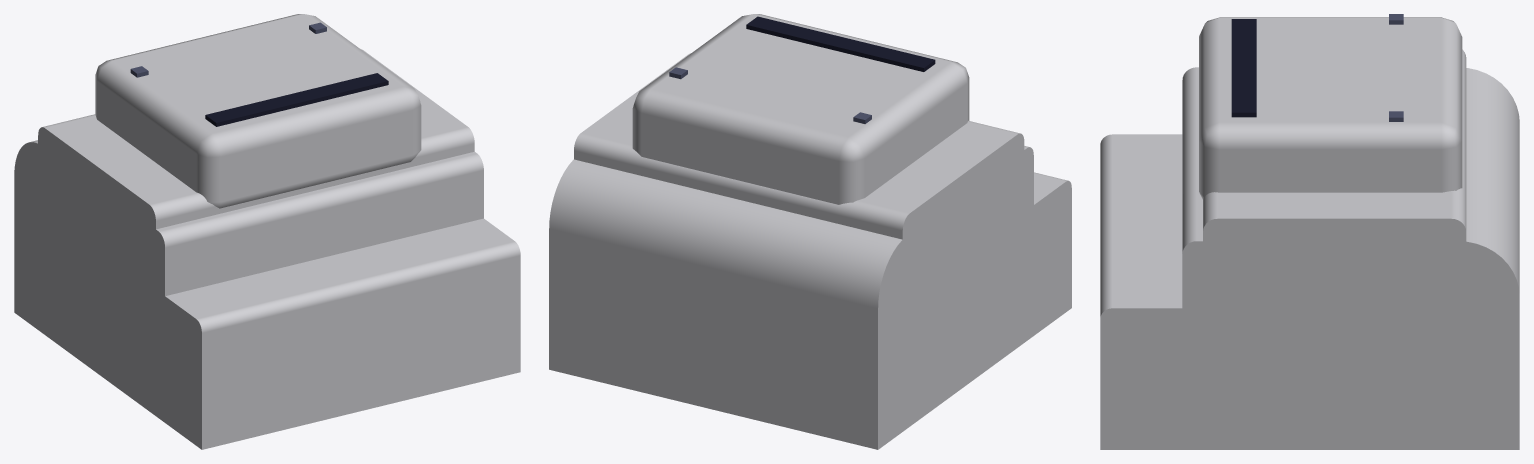
File: roof.shoulder.straight.bump.s1.glb
3 renders of one model, left to right at view 1: azimuth 30°, elevation 25°; view 2: azimuth 150°, elevation 25°; view 3: azimuth 270°, elevation 25°, orthographic. The views are drawn at different scales.
Visible parts, largest first — view 1: roof.shoulder.straight.bump.s1; view 2: roof.shoulder.straight.bump.s1; view 3: roof.shoulder.straight.bump.s1.
Boxes of the visible parts, left/top/right/bottom form: roof.shoulder.straight.bump.s1: left=14, top=14, right=520, bottom=449; roof.shoulder.straight.bump.s1: left=549, top=14, right=1071, bottom=449; roof.shoulder.straight.bump.s1: left=1100, top=14, right=1519, bottom=449.
Bounding box in the file's own units: 1 × 0.7972 × 1.02.
